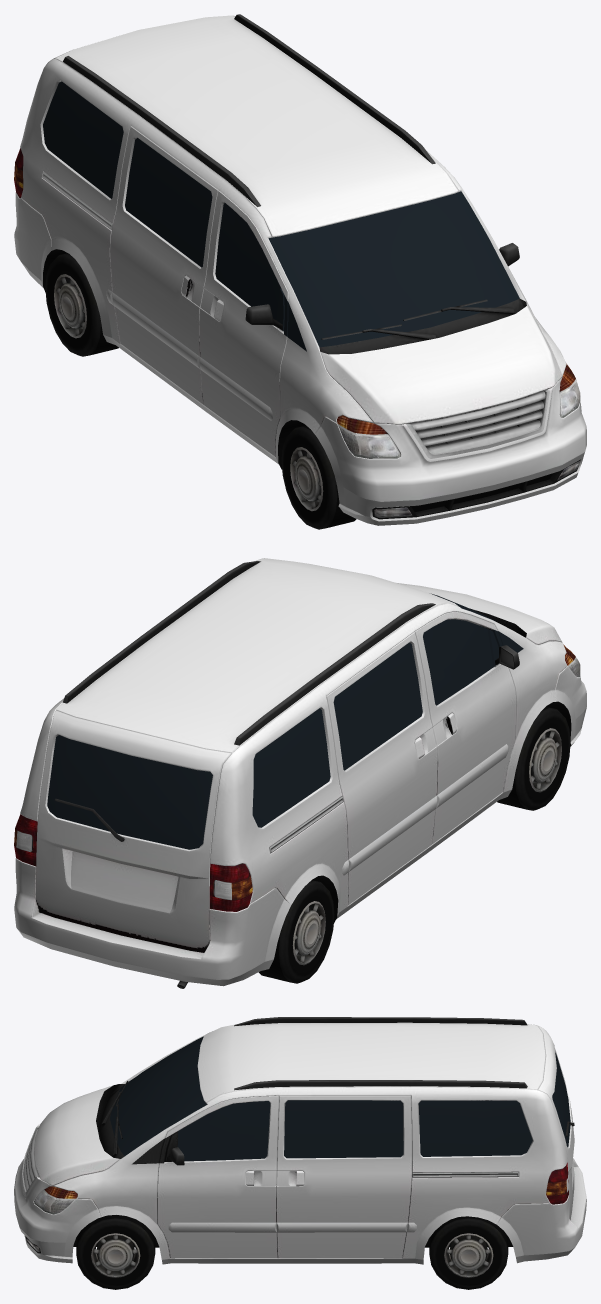
Rendered from monospace.glb.
The picture shows the model from 3 angles, top to bottom: view 1: azimuth 30°, elevation 25°; view 2: azimuth 150°, elevation 25°; view 3: azimuth 270°, elevation 25°; orthographic projection. The views are drawn at different scales.
Visible parts, largest first — view 1: carrosserie, wheel_3, wheel_1; view 2: carrosserie, wheel_1, wheel_3; view 3: carrosserie, wheel_2, wheel_0.
Part boxes in pixels (x1,y1,x2,y2): carrosserie: (14,14,586,525); wheel_3: (281,425,356,529); wheel_1: (45,253,118,356); carrosserie: (14,558,586,988); wheel_1: (258,880,334,983); wheel_3: (497,706,570,810); carrosserie: (14,1017,586,1264); wheel_2: (76,1215,155,1289); wheel_0: (429,1216,508,1289).
Bounding box in the file's own units: 2.1 × 1.98 × 5.19.
Materials: 7 (6 with a texture image).
